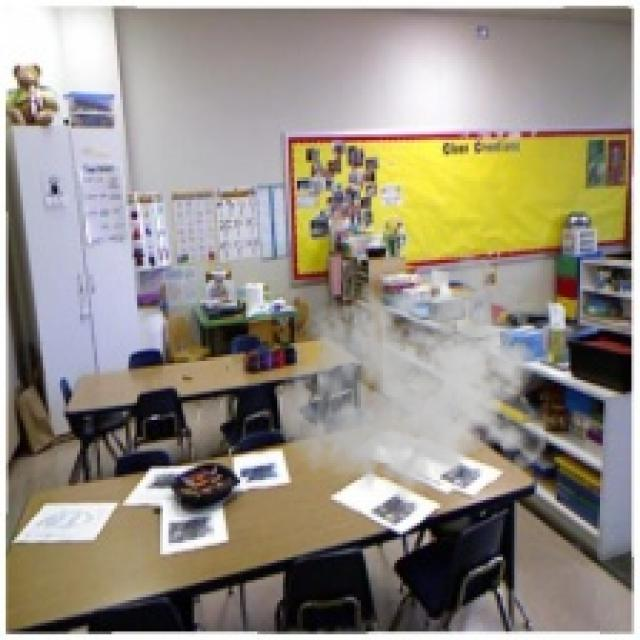smoke: (277, 254, 554, 517)
